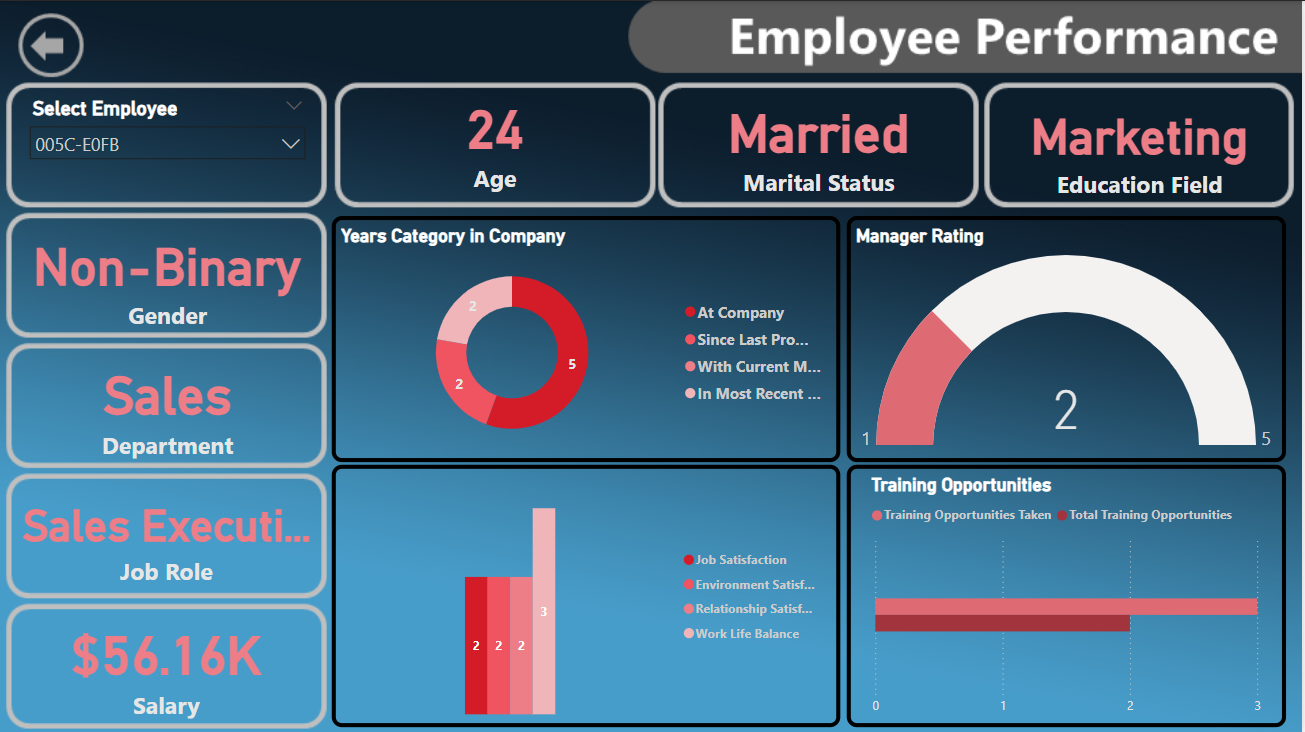

What the dashboard file says about the page in this screenshot:
{"tool":"powerbi","page":{"name":"Page 2","canvas":[1280,720],"ordinal":1},"visuals":[{"type":"slicer","fields":{"Values":["Employee.EmployeeID"]},"box":[20.6,89.2,290.9,105.7],"z":0},{"type":"card","fields":{"Values":["Employee.Dep_name"]},"box":[19.2,343.1,293.7,105.7],"z":1000},{"type":"card","fields":{"Values":["Employee.Job_role_measure"]},"box":[17.8,472,293.7,105.7],"z":2000},{"type":"card","fields":{"Values":["Employee.Salary_measure"]},"box":[17.8,598.3,293.7,105.7],"z":3000},{"type":"card","fields":{"Values":["Employee.Age_measure"]},"box":[341.7,70,293.7,129],"z":4000},{"type":"card","fields":{"Values":["Employee.Marital_status_measure"]},"box":[658.7,86.4,293.7,105.7],"z":5000},{"type":"card","fields":{"Values":["Employee.Edu_Field"]},"box":[978.4,89.2,285.4,105.7],"z":6000},{"type":"donutChart","title":"Years Category in Company","fields":{"Y":["Sum(Employee.YearsAtCompany)","Sum(Employee.YearsSinceLastPromotion)","Sum(Employee.YearsWithCurrManager)","Sum(Employee.YearsInMostRecentRole)"]},"box":[328,211.3,499.5,241.5],"z":7000},{"type":"clusteredColumnChart","fields":{"Category":["PerformanceRating.EmployeeID"],"Y":["Count(PerformanceRating.JobSatisfaction)","Count(PerformanceRating.EnvironmentSatisfaction)","Count(PerformanceRating.RelationshipSatisfaction)","Count(PerformanceRating.WorkLifeBalance)"]},"box":[328,455.6,499.5,258],"z":8000},{"type":"gauge","title":"Manager Rating","fields":{"Y":["Count(PerformanceRating.ManagerRating)"],"MinValue":["Min(RatingLevel.RatingID)"],"MaxValue":["Max(RatingLevel.RatingID)1"]},"box":[832.9,211.3,430.9,241.5],"z":9000},{"type":"clusteredBarChart","title":"Training Opportunities ","fields":{"Category":["PerformanceRating.EmployeeID"],"Y":["Count(PerformanceRating.TrainingOpportunitiesTaken)","Count(PerformanceRating.TrainingOpportunitiesWithinYear)"]},"box":[832.9,455.6,430.9,258],"z":10000},{"type":"card","fields":{"Values":["Employee.Gender_measure"]},"box":[19.2,216.8,293.7,105.7],"z":11000},{"type":"actionButton","box":[18.4,9.8,67.5,60.1],"z":12000}]}

Visuals, with their boxes in screenshot pixels (x1, y1, x2, y2), scaled from the page's 1280x720 canvas onto the 1305x732 screenshot:
slicer - Employee.EmployeeID: rect(21, 91, 318, 198)
card - Employee.Dep_name: rect(20, 349, 319, 456)
card - Employee.Job_role_measure: rect(18, 480, 318, 587)
card - Employee.Salary_measure: rect(18, 608, 318, 716)
card - Employee.Age_measure: rect(348, 71, 648, 202)
card - Employee.Marital_status_measure: rect(672, 88, 971, 195)
card - Employee.Edu_Field: rect(998, 91, 1288, 198)
"Years Category in Company" donutChart: rect(334, 215, 844, 460)
clusteredColumnChart - PerformanceRating.EmployeeID x Count(PerformanceRating.JobSatisfaction): rect(334, 463, 844, 725)
"Manager Rating" gauge: rect(849, 215, 1288, 460)
"Training Opportunities " clusteredBarChart: rect(849, 463, 1288, 725)
card - Employee.Gender_measure: rect(20, 220, 319, 328)
actionButton: rect(19, 10, 88, 71)
